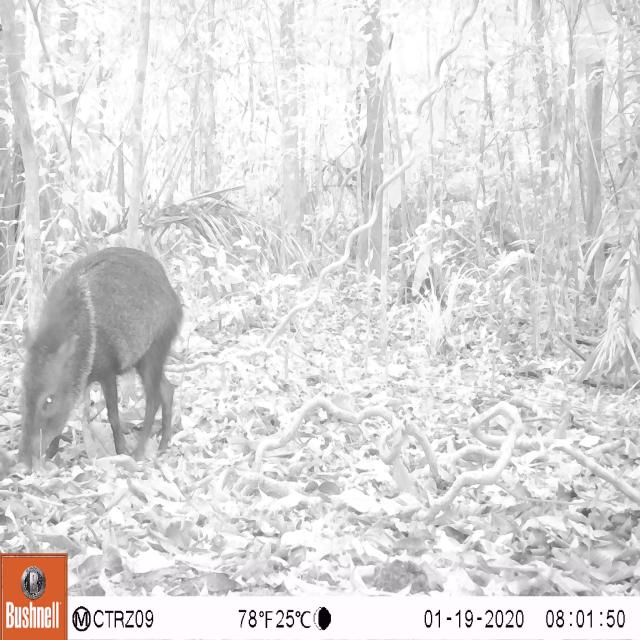Collared Peccary: (16, 237, 193, 483)
